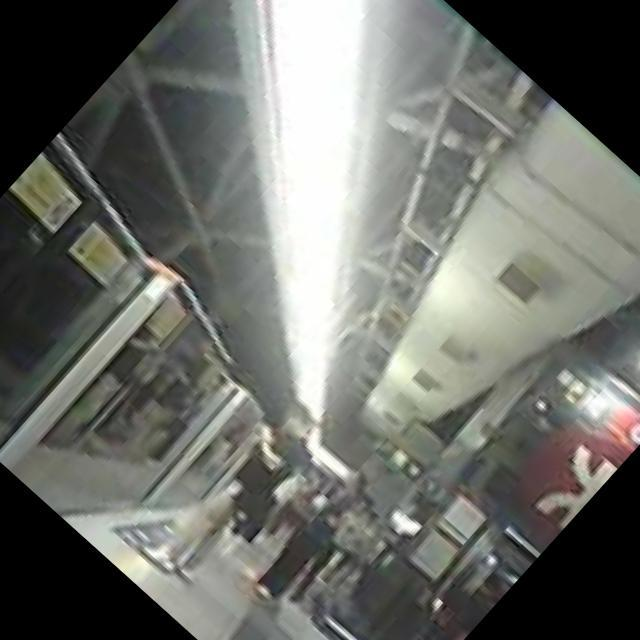person: (136, 384, 338, 596), (246, 468, 376, 606)
